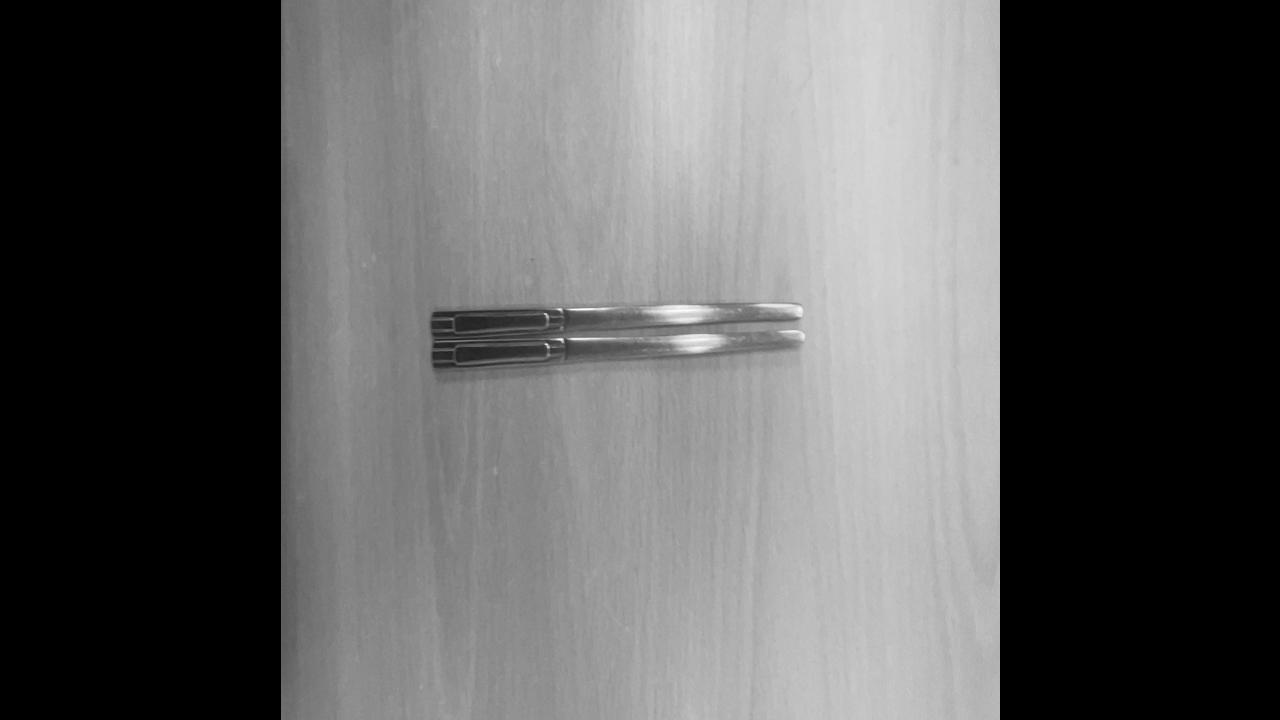chopstick: (428, 302, 804, 374)
